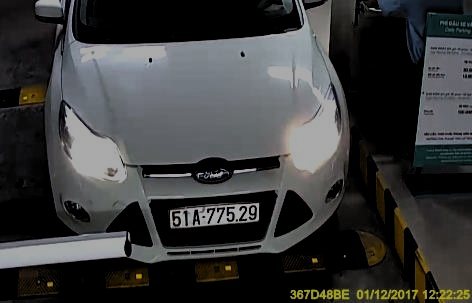plate: (168, 203, 263, 227)
